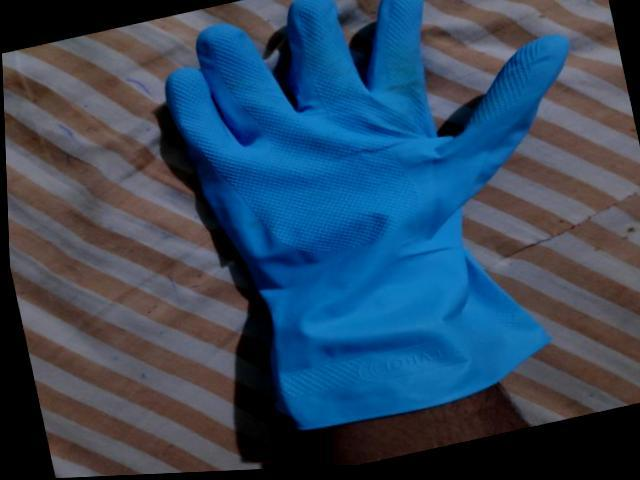Hand-in-Glove: (145, 0, 638, 456)
